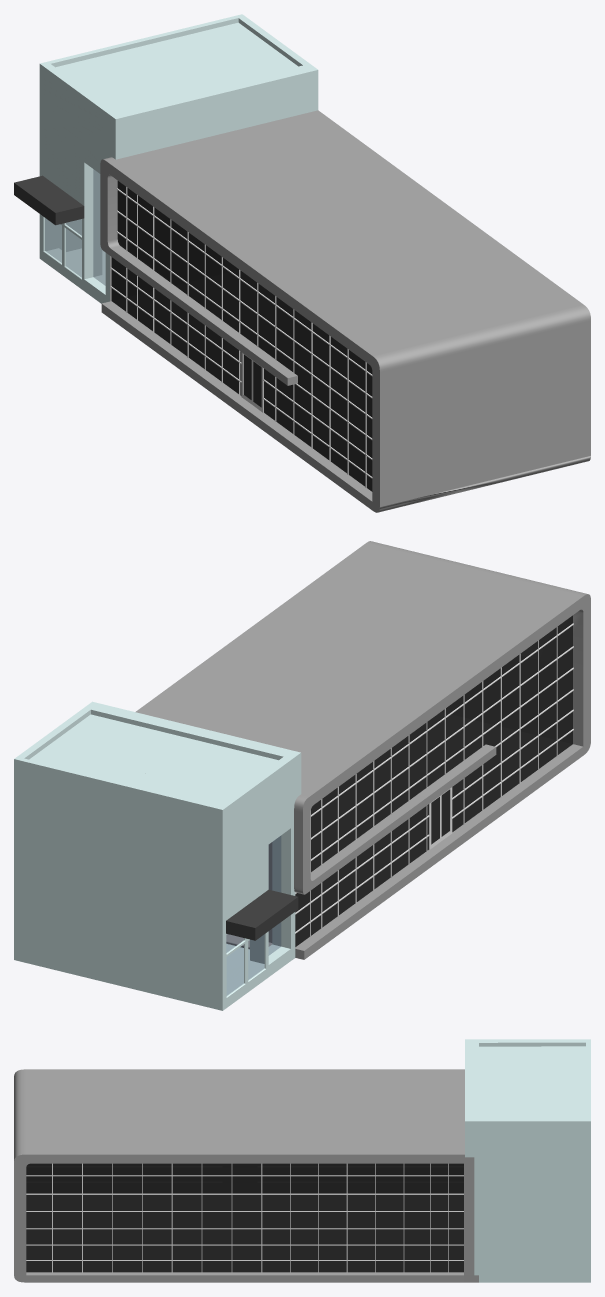
File: asset.glb
3 renders of one model, top to bottom at view 1: azimuth 30°, elevation 25°; view 2: azimuth 150°, elevation 25°; view 3: azimuth 270°, elevation 25°, orthographic. The views are drawn at different scales.
Visible parts, largest first — view 1: Yapı, Yapı2, Cam1, Demirler1, Cam4, Cam3; view 2: Yapı2, Yapı, Cam1, Demirler1, Cam4, Cam3; view 3: Yapı, Cam2, Yapı2, Demirler2.
Part boxes in pixels (<box>): Yapı: <box>14,110,590,512</box>; Yapı2: <box>39,14,318,303</box>; Cam1: <box>111,181,372,491</box>; Demirler1: <box>110,187,372,487</box>; Cam4: <box>45,218,81,277</box>; Cam3: <box>93,169,105,285</box>; Yapı2: <box>14,701,301,1010</box>; Yapı: <box>135,541,590,959</box>; Cam1: <box>295,615,572,946</box>; Demirler1: <box>295,623,573,936</box>; Cam4: <box>226,934,264,995</box>; Cam3: <box>269,836,280,954</box>; Yapı: <box>14,1069,478,1282</box>; Cam2: <box>26,1163,463,1272</box>; Yapı2: <box>465,1039,590,1282</box>; Demirler2: <box>26,1163,463,1272</box>.
Size of the model in its own units: 70.68 by 56.94 by 185.
